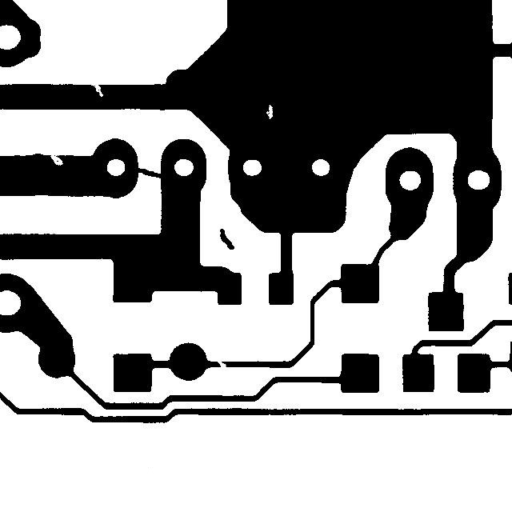copper: (212, 221, 242, 257)
mousebite: (81, 72, 110, 104), (42, 147, 70, 173)
open: (210, 352, 234, 377)
pin-hole: (258, 97, 280, 126)
short: (125, 159, 170, 186)
